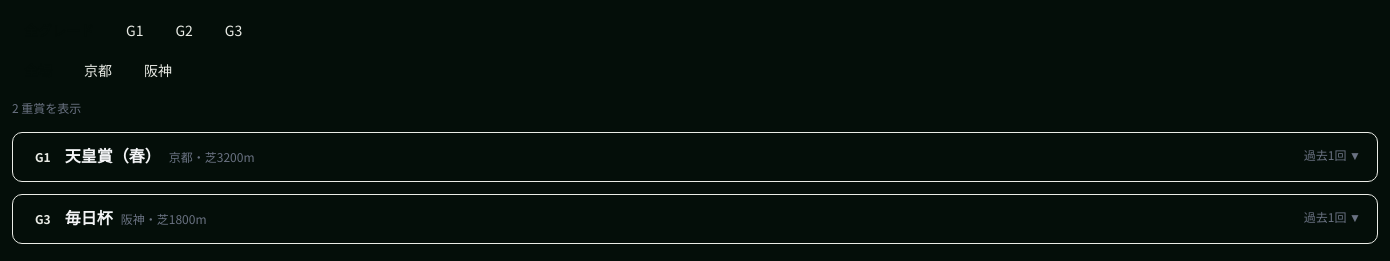
Test case: GradedClient › 該当レースなしの場合に空メッセージが表示される
The image size is (1390, 261).
G2 は存在しないので絞り込み結果0件
Click the button "G2".
click(184, 30)  # box [163,16,205,44]
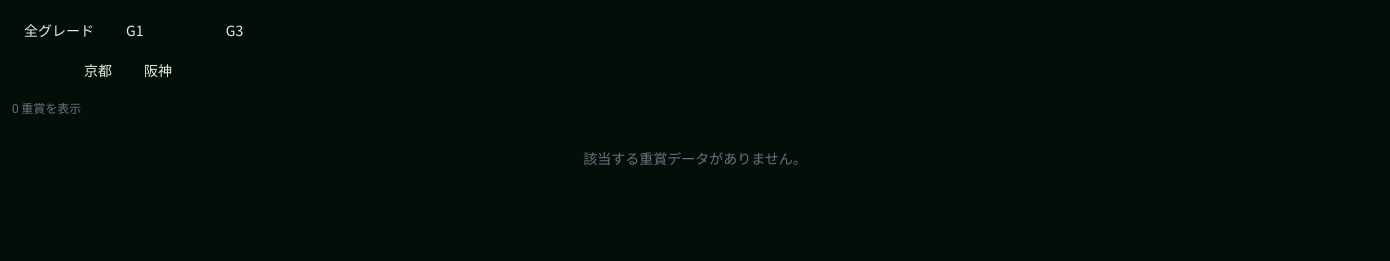
Now the text "該当する重賞データがありません。" is shown, box [583,148,807,168]
